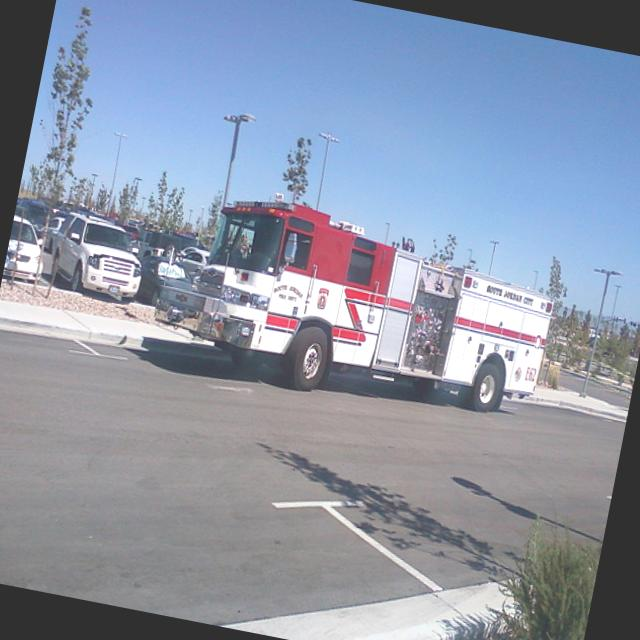Vehicle: (142, 178, 566, 436), (46, 206, 152, 304), (130, 252, 203, 313), (3, 214, 51, 282), (177, 248, 210, 274), (178, 245, 205, 267)
